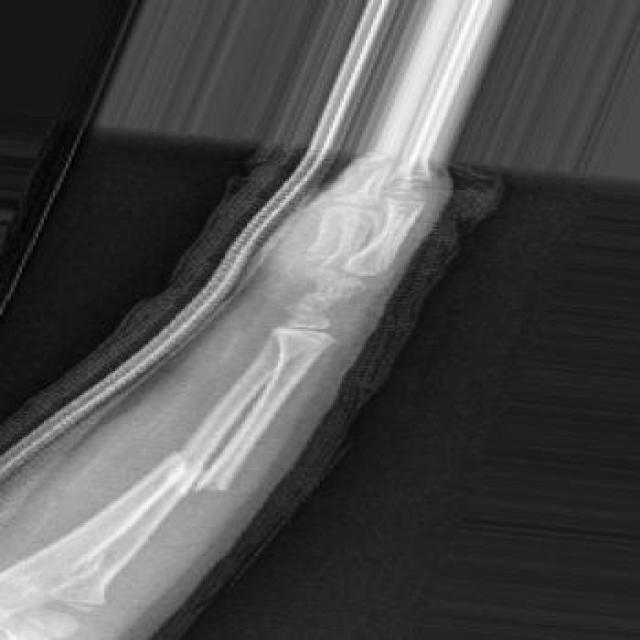Fracture: (163, 440, 243, 498)
